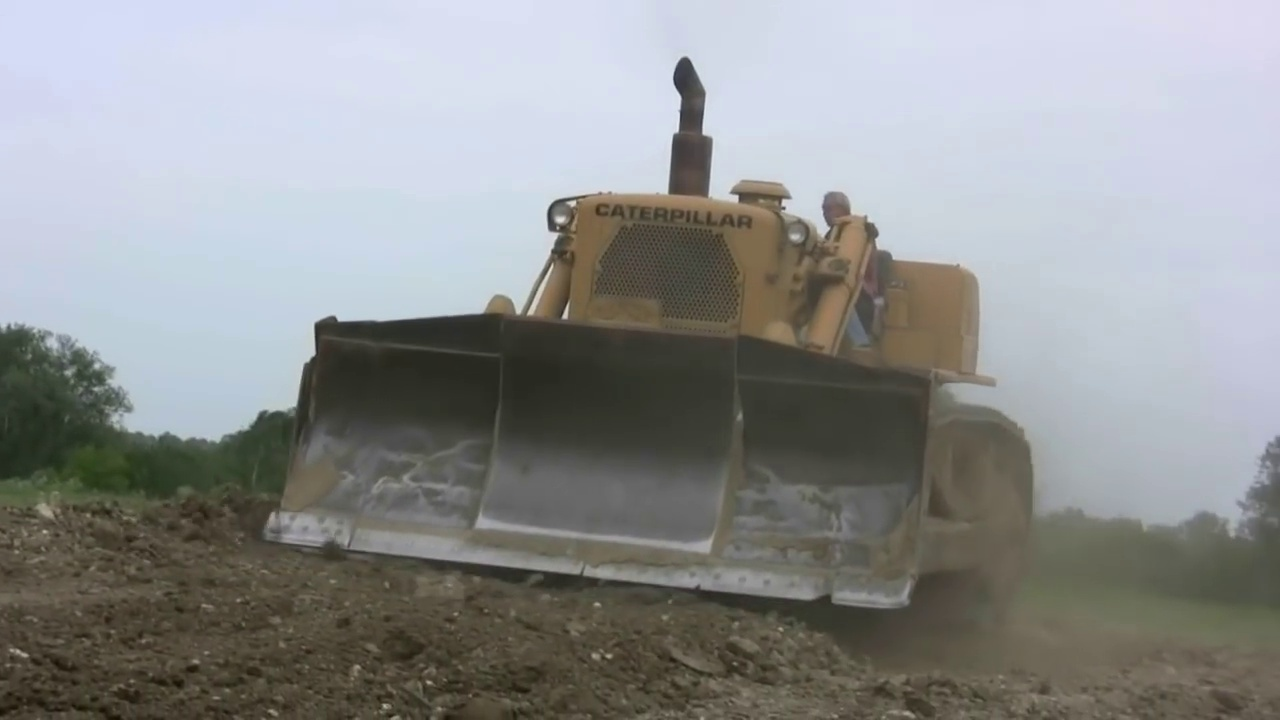bulldozer: (258, 54, 1036, 639)
person: (815, 185, 885, 359)
